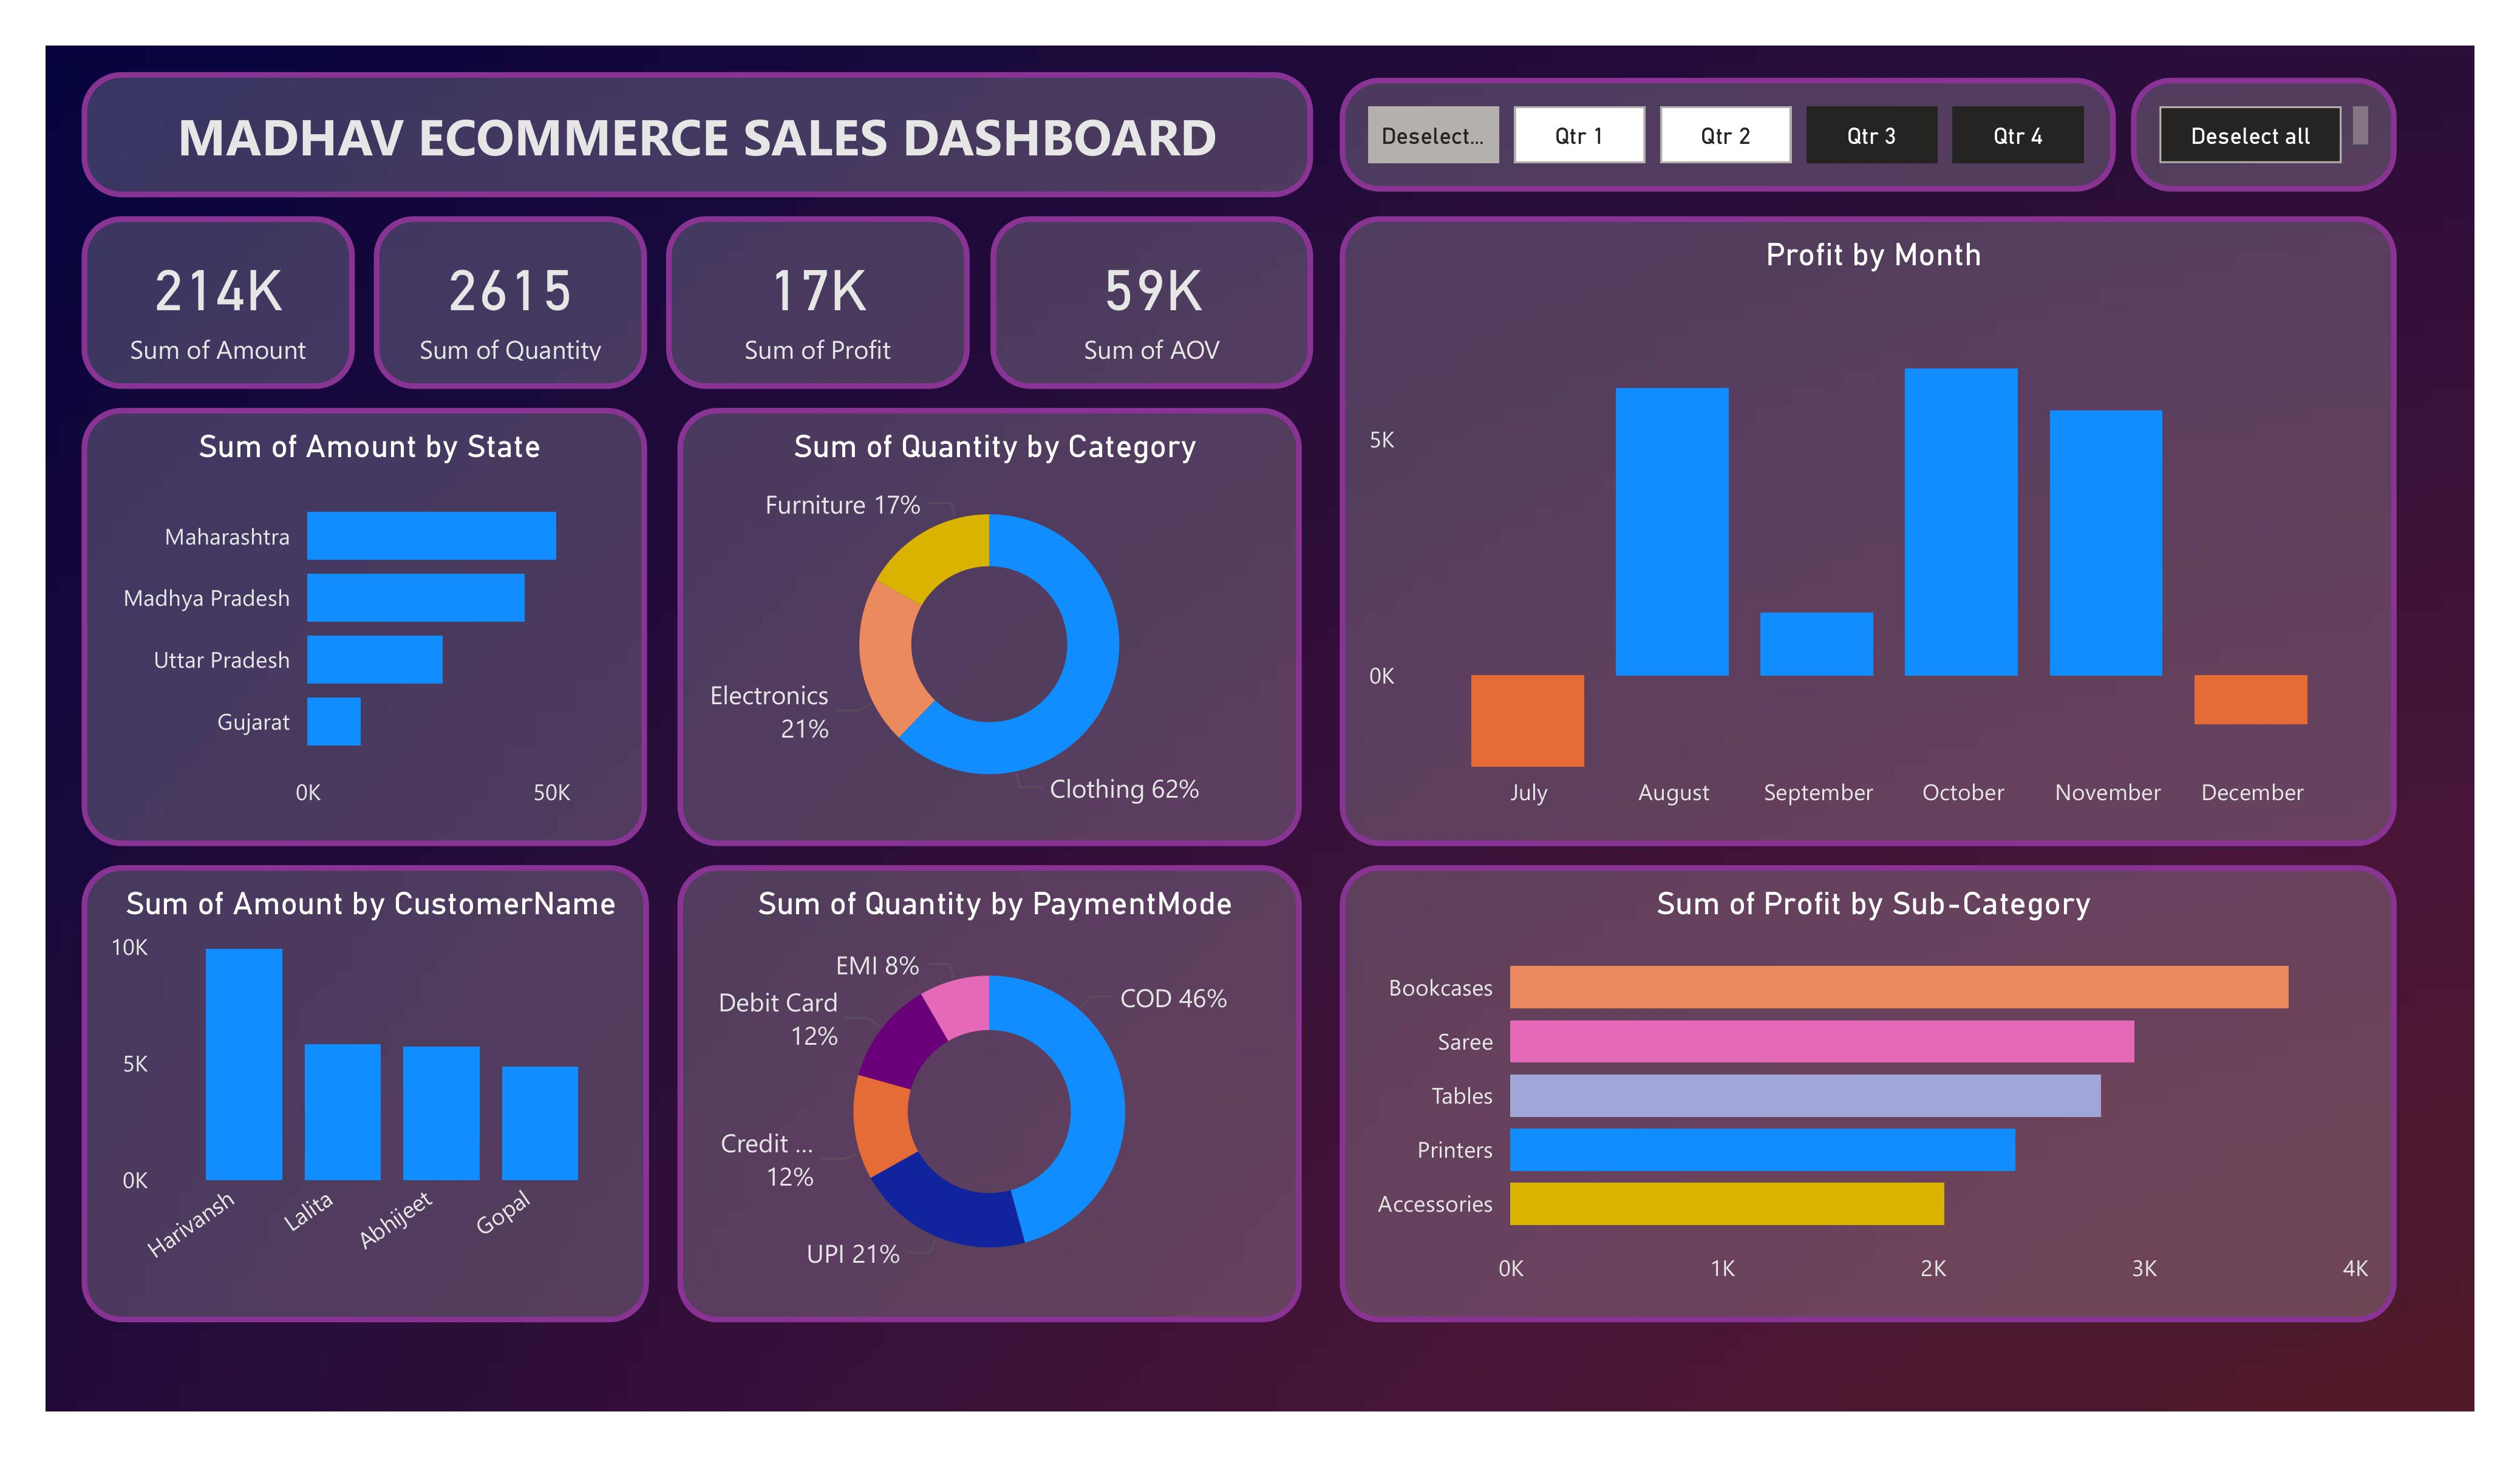

The page's visual inventory and layout, read from the dashboard file:
{"tool":"powerbi","page":{"name":"Page 1","canvas":[1280,720],"ordinal":0},"visuals":[{"type":"textbox","box":[18.6,14.2,649.4,65.6],"z":0},{"type":"columnChart","title":"Profit by Month","fields":{"Category":["Orders.Order Date.Variation.Date Hierarchy.Month"],"Y":["Details.Profit"]},"box":[682.2,90.4,556.4,331.3],"z":1000},{"type":"barChart","fields":{"Category":["Details.Sub-Category"],"Y":["Details.Profit"]},"box":[682.2,432.3,556.4,241],"z":2000},{"type":"donutChart","fields":{"Category":["Details.Category"],"Y":["Details.Quantity"]},"box":[333.1,191.4,328.7,230.3],"z":3000},{"type":"donutChart","fields":{"Y":["Details.Quantity"],"Category":["Details.PaymentMode"]},"box":[333.1,432.3,328.7,241],"z":4000},{"type":"card","fields":{"Values":["Details.Amount"]},"box":[18.6,90.4,144.4,90.4],"z":5000},{"type":"card","fields":{"Values":["Details.Quantity"]},"box":[172.8,90.4,144.4,90.4],"z":6000},{"type":"card","fields":{"Values":["Details.Profit"]},"box":[326.9,90.4,160.4,90.4],"z":7000},{"type":"card","fields":{"Values":["Details.AOV"]},"box":[497.9,90.4,170.1,90.4],"z":8000},{"type":"barChart","fields":{"Y":["Details.Amount"],"Category":["Orders.State"]},"box":[18.6,191.4,298.6,230.3],"z":9000},{"type":"columnChart","fields":{"Category":["Orders.CustomerName"],"Y":["Details.Amount"]},"box":[19,432,299,241],"z":10000},{"type":"advancedSlicerVisual","fields":{"Values":["Orders.Order Date.Variation.Date Hierarchy.Quarter"]},"box":[682.2,16.8,408.4,60.2],"z":11000},{"type":"advancedSlicerVisual","fields":{"Values":["Orders.State"]},"box":[1099.4,16.8,139.1,60.2],"z":12000}]}

Visuals, with their boxes on the page's 1280x720 design canvas (x1, y1, x2, y2). These are canvas units, not pixel positions in the 2520x1457 screenshot, which may show the page scaled, cropped or inside an application window:
textbox: (x1=19, y1=14, x2=668, y2=80)
"Profit by Month" columnChart: (x1=682, y1=90, x2=1239, y2=422)
barChart - Details.Sub-Category x Details.Profit: (x1=682, y1=432, x2=1239, y2=673)
donutChart - Details.Category x Details.Quantity: (x1=333, y1=191, x2=662, y2=422)
donutChart - Details.Quantity x Details.PaymentMode: (x1=333, y1=432, x2=662, y2=673)
card - Details.Amount: (x1=19, y1=90, x2=163, y2=181)
card - Details.Quantity: (x1=173, y1=90, x2=317, y2=181)
card - Details.Profit: (x1=327, y1=90, x2=487, y2=181)
card - Details.AOV: (x1=498, y1=90, x2=668, y2=181)
barChart - Details.Amount x Orders.State: (x1=19, y1=191, x2=317, y2=422)
columnChart - Orders.CustomerName x Details.Amount: (x1=19, y1=432, x2=318, y2=673)
advancedSlicerVisual - Orders.Order Date.Variation.Date Hierarchy.Quarter: (x1=682, y1=17, x2=1091, y2=77)
advancedSlicerVisual - Orders.State: (x1=1099, y1=17, x2=1238, y2=77)
